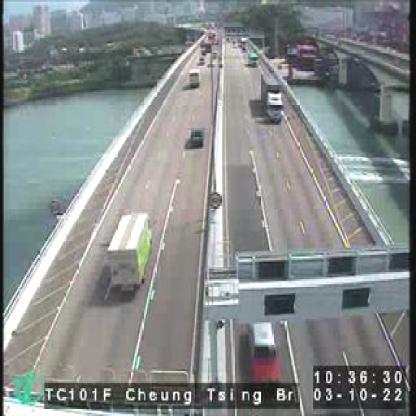Car: (248, 321, 281, 388), (188, 126, 203, 148), (187, 68, 200, 85)
Truck: (108, 212, 148, 290), (260, 75, 281, 123)
